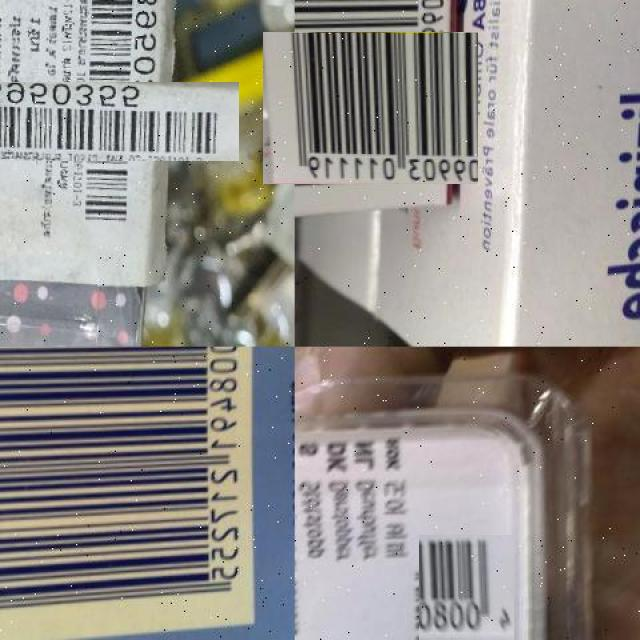Barcode: (1, 347, 255, 640), (278, 16, 462, 200), (37, 41, 198, 202), (414, 540, 520, 640)
